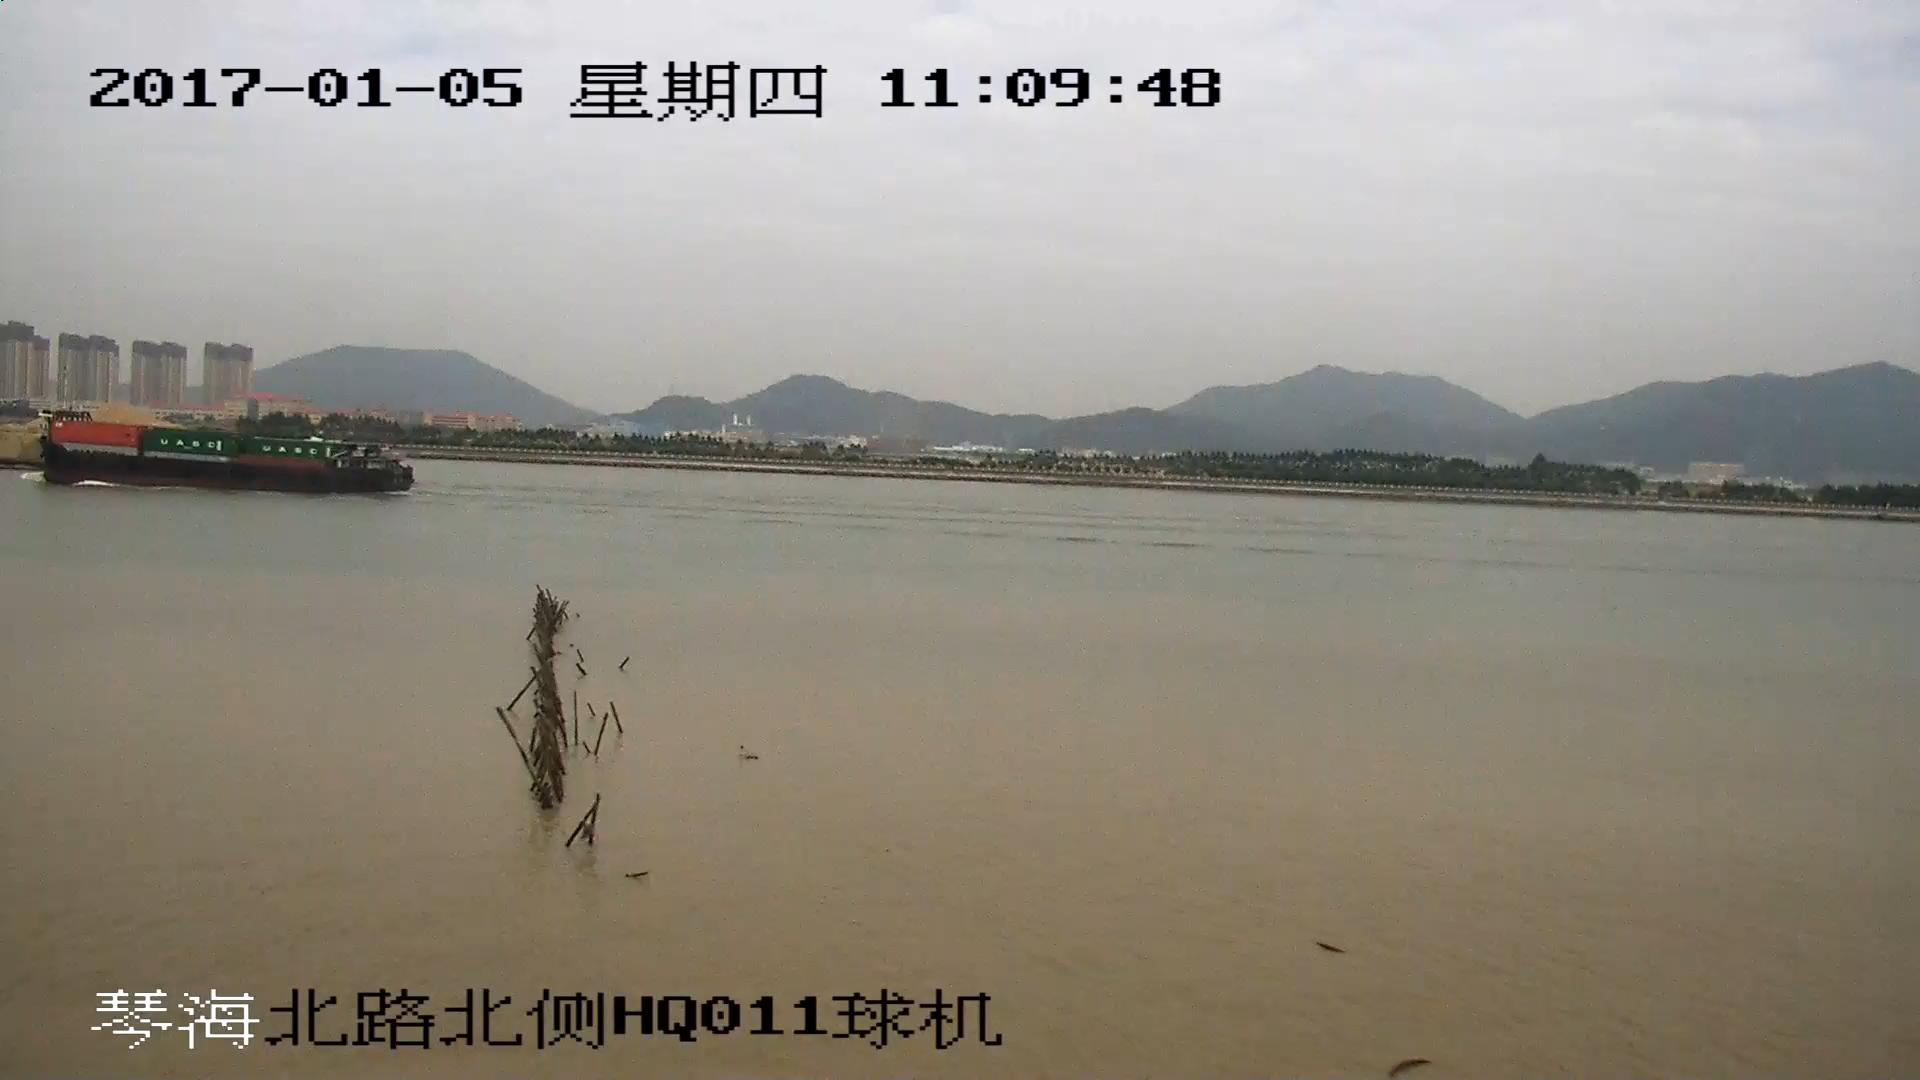container ship: (40, 413, 414, 495)
